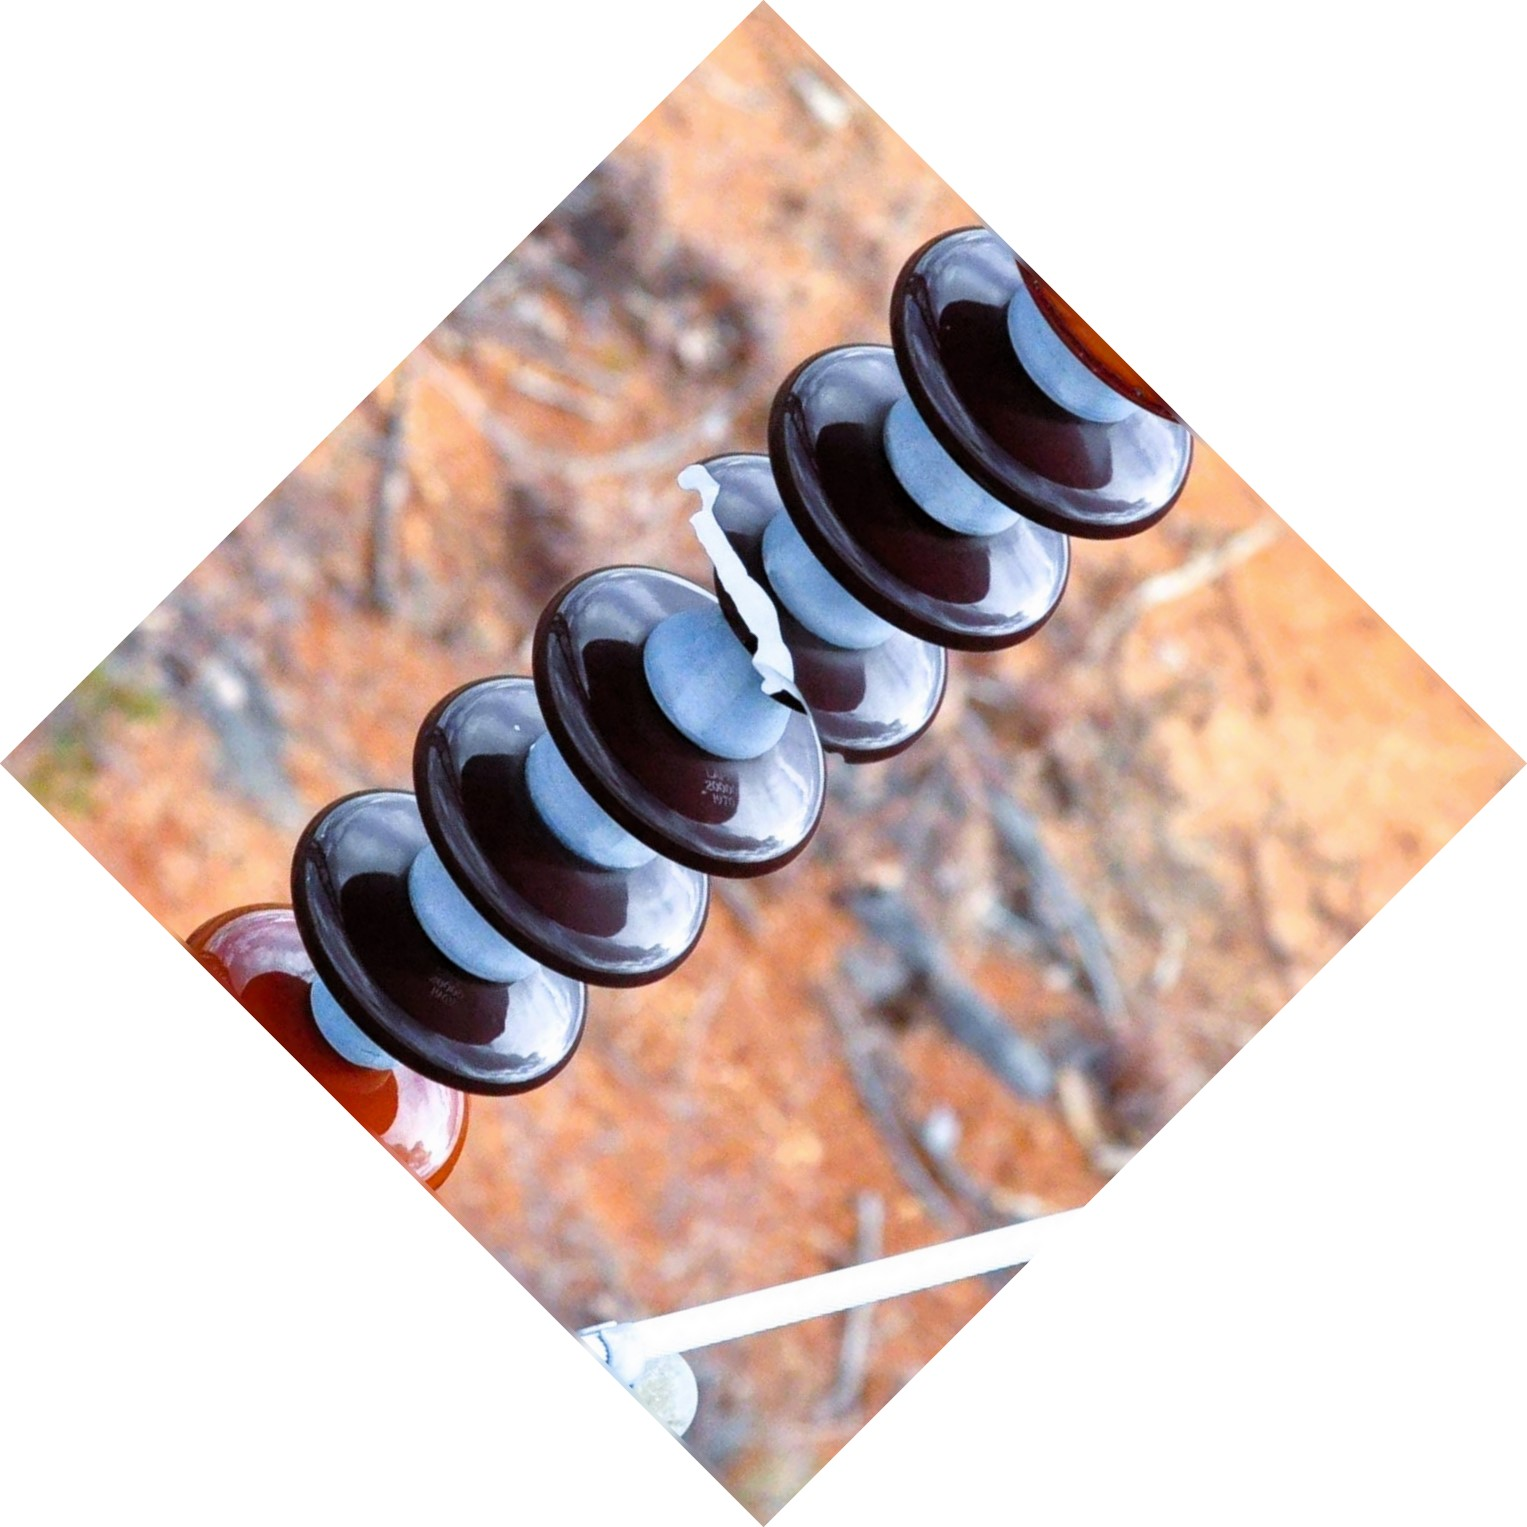insulator breakage: (668, 439, 956, 768)
